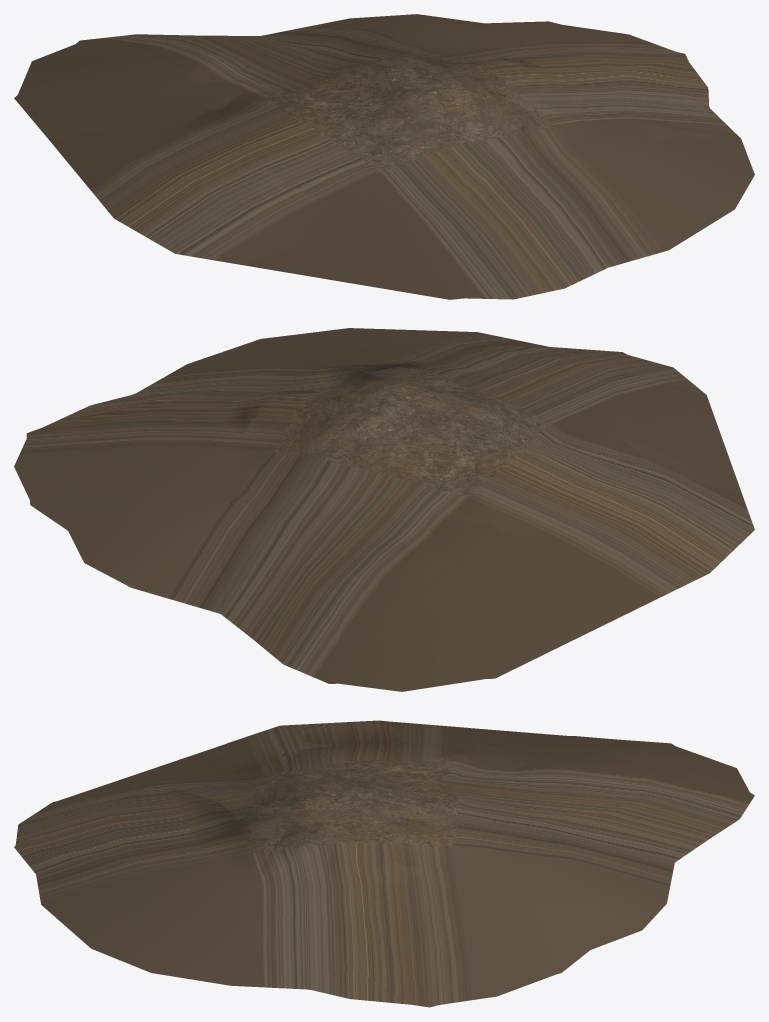
File: ground_un_dlc2_w_mud01_02.gltf
3 views of the same model, one above another, from view 1: azimuth 30°, elevation 25°; view 2: azimuth 150°, elevation 25°; view 3: azimuth 270°, elevation 25° (orthographic). The views are drawn at different scales.
Visible parts, largest first — view 1: um_ground_un_dlc2_w_mud01_02_model_lod2Shape:ground_un_dlc2_, um_ground_un_dlc2_w_mud01_02_model_lod0Shape:ground_un_dlc2_, um_ground_un_dlc2_w_mud01_02_model_lod1Shape:ground_un_dlc2_; view 2: um_ground_un_dlc2_w_mud01_02_model_lod2Shape:ground_un_dlc2_, um_ground_un_dlc2_w_mud01_02_model_lod0Shape:ground_un_dlc2_, um_ground_un_dlc2_w_mud01_02_model_lod1Shape:ground_un_dlc2_; view 3: um_ground_un_dlc2_w_mud01_02_model_lod2Shape:ground_un_dlc2_, um_ground_un_dlc2_w_mud01_02_model_lod0Shape:ground_un_dlc2_, um_ground_un_dlc2_w_mud01_02_model_lod1Shape:ground_un_dlc2_.
Boxes of the visible parts, x1,y1,x2,y2 form: um_ground_un_dlc2_w_mud01_02_model_lod2Shape:ground_un_dlc2_: (14, 18, 754, 299); um_ground_un_dlc2_w_mud01_02_model_lod0Shape:ground_un_dlc2_: (33, 14, 739, 299); um_ground_un_dlc2_w_mud01_02_model_lod1Shape:ground_un_dlc2_: (18, 19, 739, 299); um_ground_un_dlc2_w_mud01_02_model_lod2Shape:ground_un_dlc2_: (26, 328, 754, 683); um_ground_un_dlc2_w_mud01_02_model_lod0Shape:ground_un_dlc2_: (19, 347, 753, 691); um_ground_un_dlc2_w_mud01_02_model_lod1Shape:ground_un_dlc2_: (14, 346, 752, 691); um_ground_un_dlc2_w_mud01_02_model_lod2Shape:ground_un_dlc2_: (14, 723, 754, 1007); um_ground_un_dlc2_w_mud01_02_model_lod0Shape:ground_un_dlc2_: (15, 721, 749, 1004); um_ground_un_dlc2_w_mud01_02_model_lod1Shape:ground_un_dlc2_: (19, 720, 736, 1004).
Size of what is drawn, in the model's own units: 10.94 by 1.28 by 11.93.
Materials: 1 (1 with a texture image).
